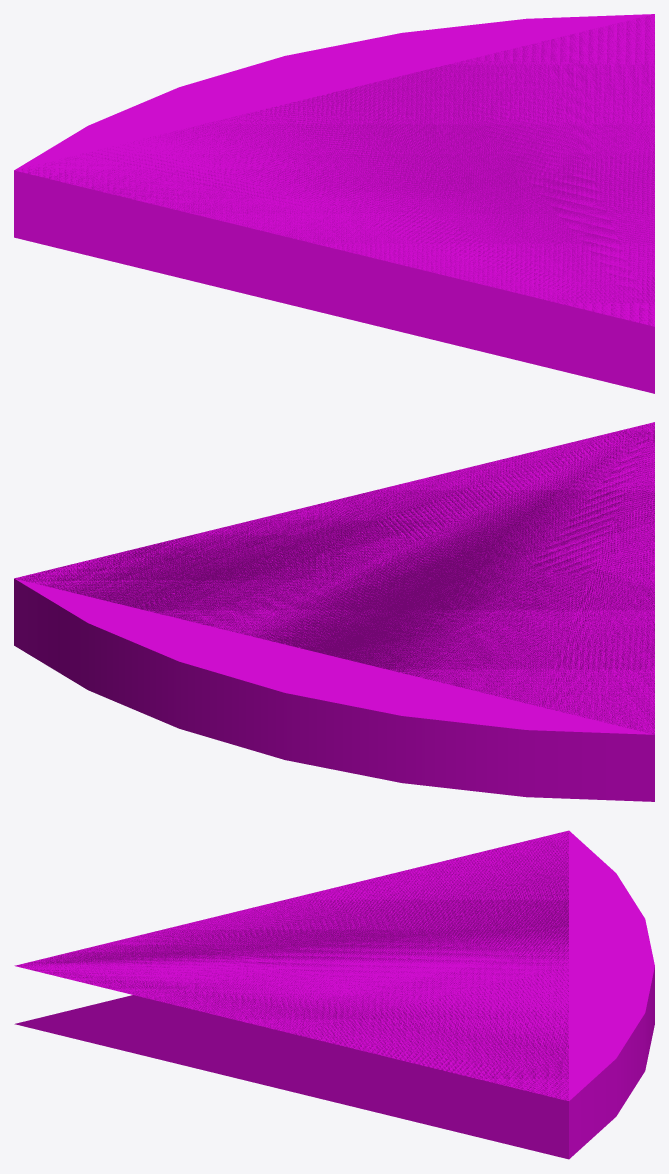
File: body_3.fbx
3 renders of one model, top to bottom at view 1: azimuth 30°, elevation 25°; view 2: azimuth 150°, elevation 25°; view 3: azimuth 270°, elevation 25°, orthographic. The views are drawn at different scales.
Visible parts, largest first — view 1: pCylinder142; view 2: pCylinder142; view 3: pCylinder142.
Part boxes in pixels (x1=…): pCylinder142: x1=14, y1=14, x2=654, y2=393; pCylinder142: x1=14, y1=422, x2=654, y2=801; pCylinder142: x1=14, y1=830, x2=654, y2=1159.
Size of the model in its own units: 4.12 by 0.4121 by 4.12.
